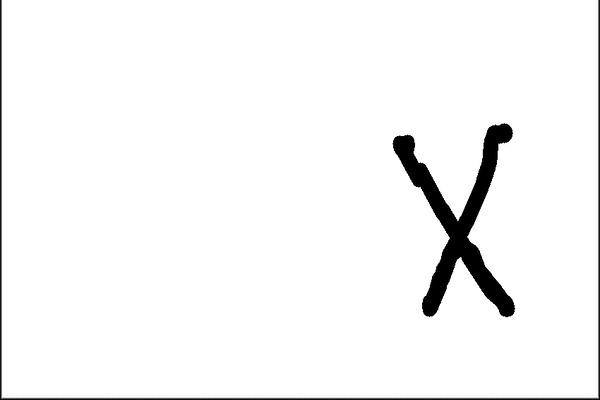X: (370, 103, 533, 330)
